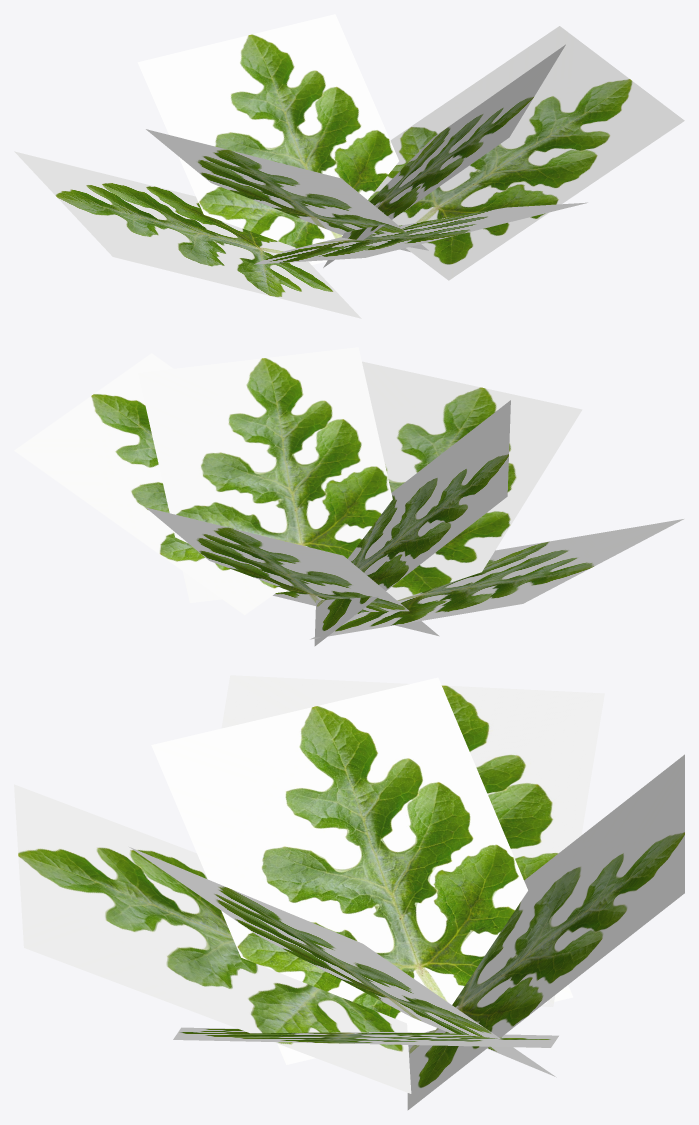
Rendered from Watermelon plant.fbx.
The picture shows the model from 3 angles, top to bottom: view 1: azimuth 30°, elevation 25°; view 2: azimuth 150°, elevation 25°; view 3: azimuth 270°, elevation 25°; orthographic projection. The views are drawn at different scales.
Parts seen in each view (by area): view 1: Wartermelon_plant; view 2: Wartermelon_plant; view 3: Wartermelon_plant.
Boxes of the visible parts, x1=… form: Wartermelon_plant: x1=14, y1=14, x2=684, y2=318; Wartermelon_plant: x1=14, y1=347, x2=683, y2=646; Wartermelon_plant: x1=14, y1=675, x2=684, y2=1110.
Bounding box in the file's own units: 181 × 53.86 × 131.
Materials: 1 (1 with a texture image).
